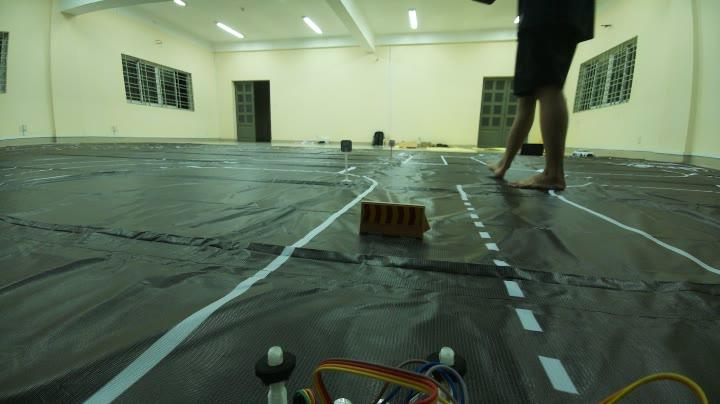roadblock: (354, 194, 446, 255)
